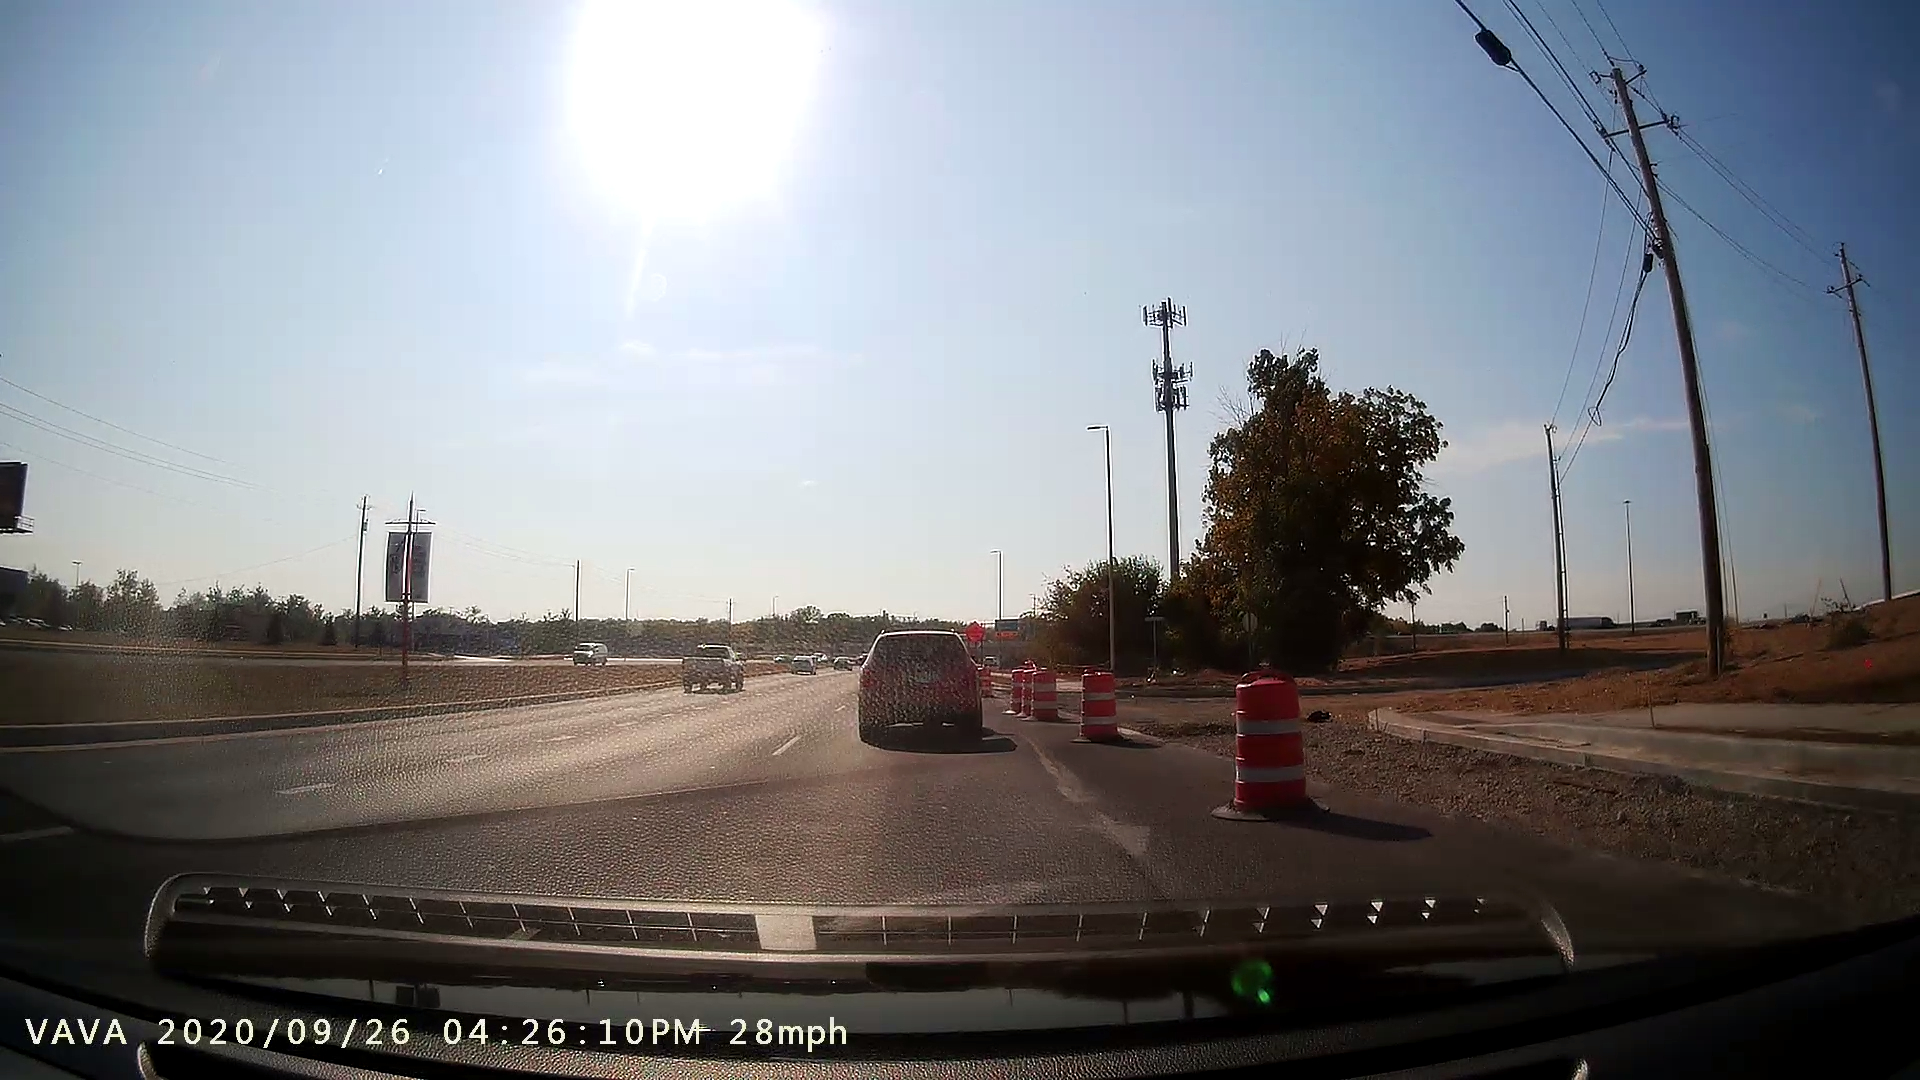const_barrel: (1209, 662, 1335, 832), (1069, 663, 1135, 756)
